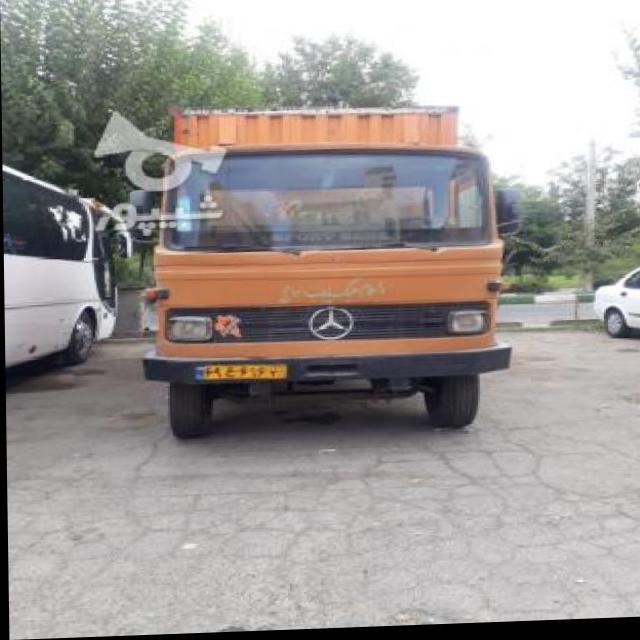licence: (195, 364, 281, 380)
